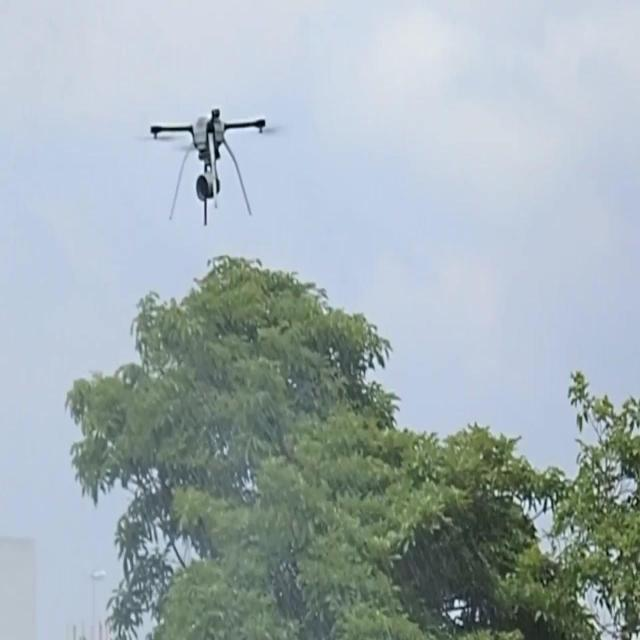UAV: (150, 109, 266, 226)
